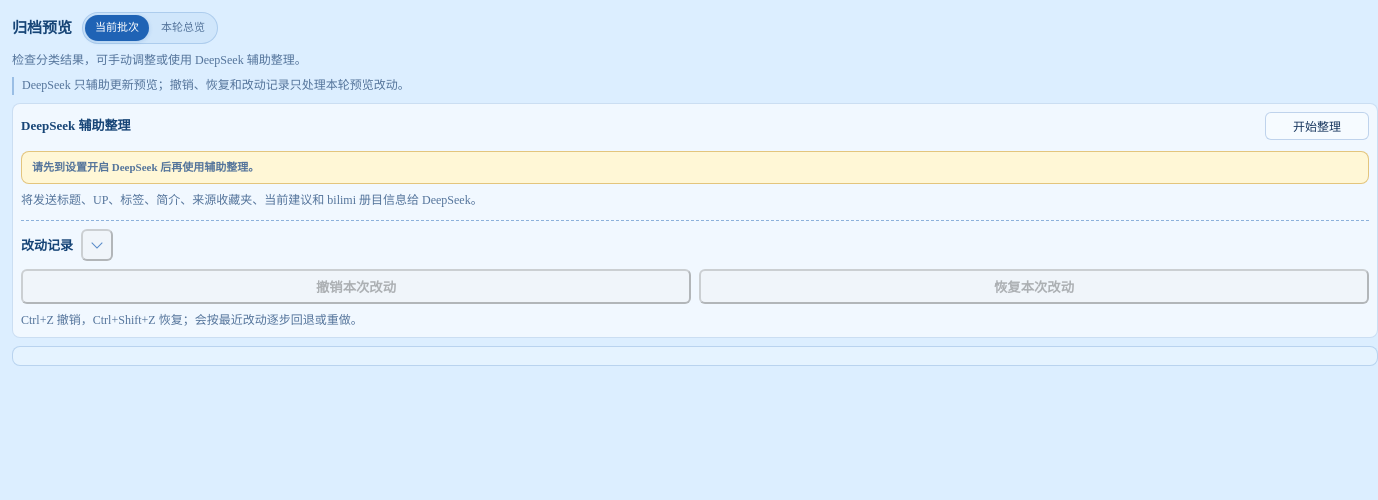
Scenario: OldFavoriteArchivePreviewStep › labels bilimi staging as unclassified, shows an archive estimate, and omits scan-wait copy
This screenshot has width=1378, height=500.
Click the button "本轮总览": (183, 28) [151,15,215,41]
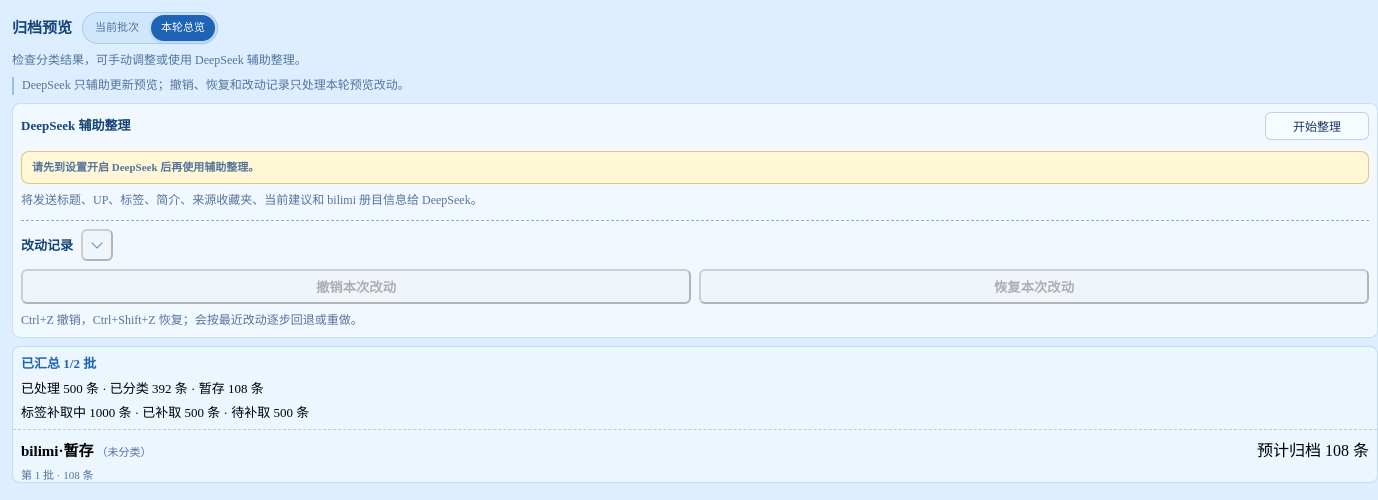
Now the text "（未分类）" is shown, box [96,445,152,460]
Now the text "预计归档 108 条" is shown, box [1257,437,1369,461]
